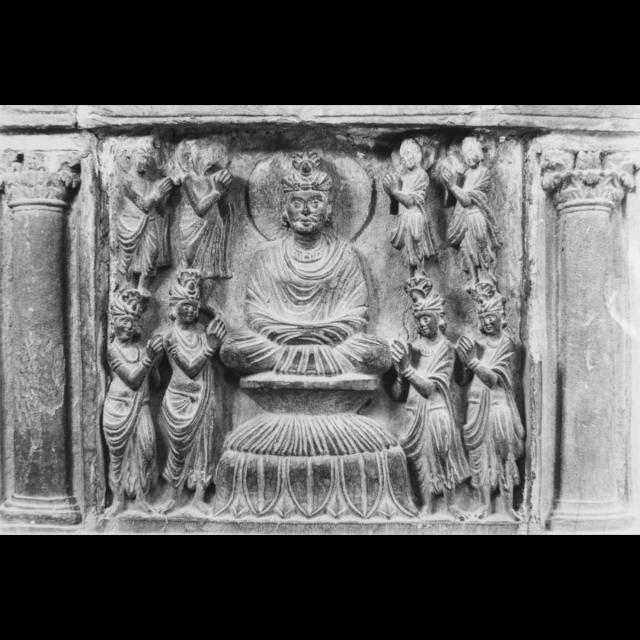buddha-standing: (232, 146, 408, 467)
